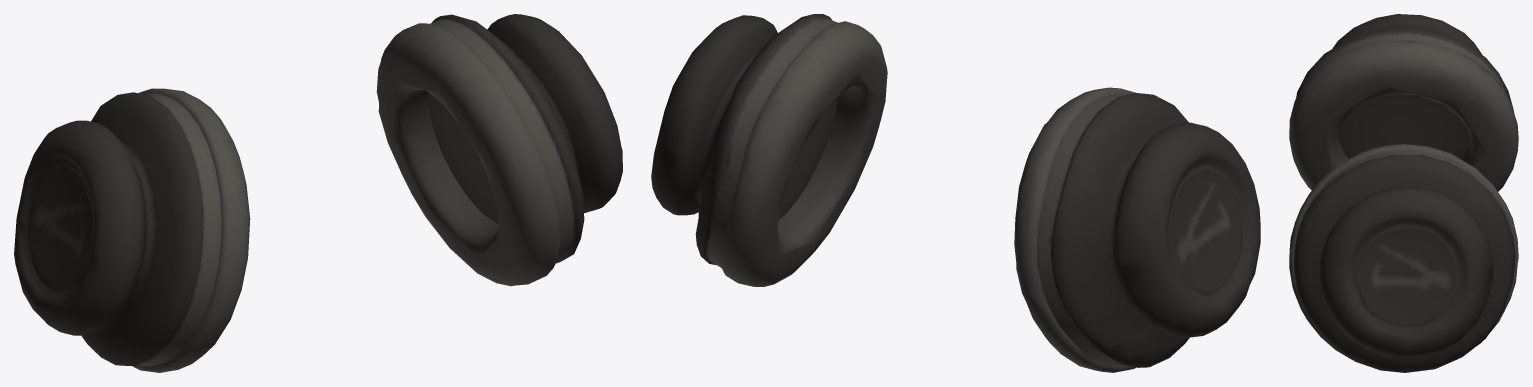
Rendered from Microfone.fbx.
3 renders of one model, left to right at view 1: azimuth 30°, elevation 25°; view 2: azimuth 150°, elevation 25°; view 3: azimuth 270°, elevation 25°, orthographic. The views are drawn at different scales.
Parts seen in each view (by area): view 1: Headset.002; view 2: Headset.002; view 3: Headset.002.
Boxes of the visible parts, left/top/right/bottom form: Headset.002: left=14, top=14, right=622, bottom=372; Headset.002: left=651, top=14, right=1260, bottom=372; Headset.002: left=1289, top=14, right=1518, bottom=372.
Bounding box in the file's own units: 322 × 141 × 142.
